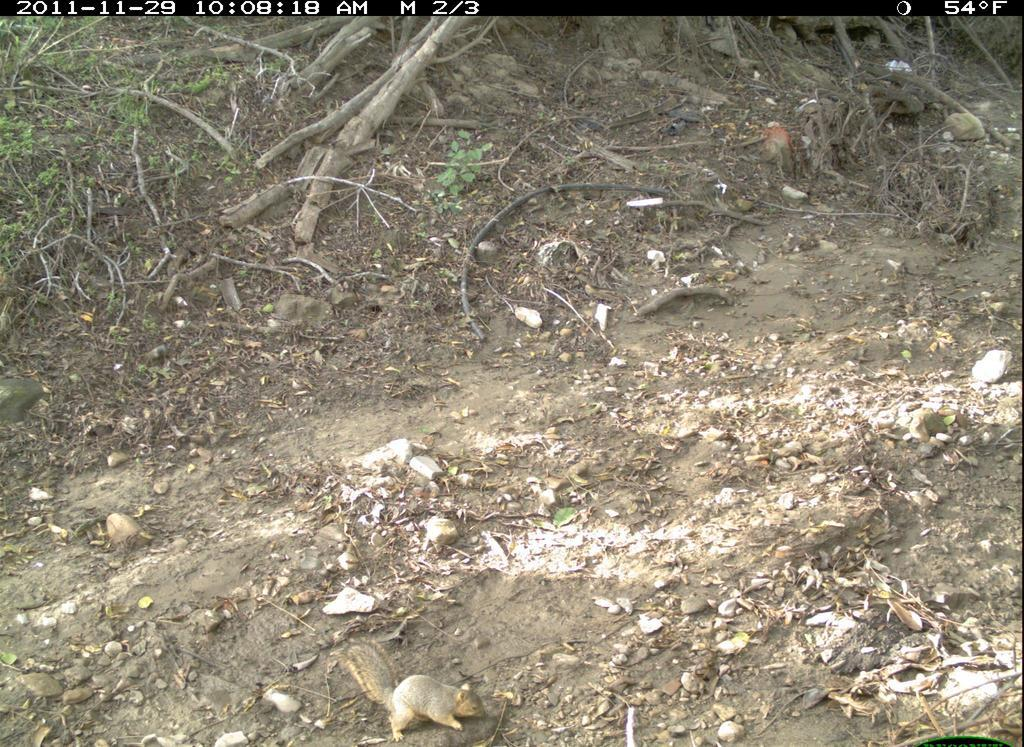squirrel: (340, 634, 502, 747)
